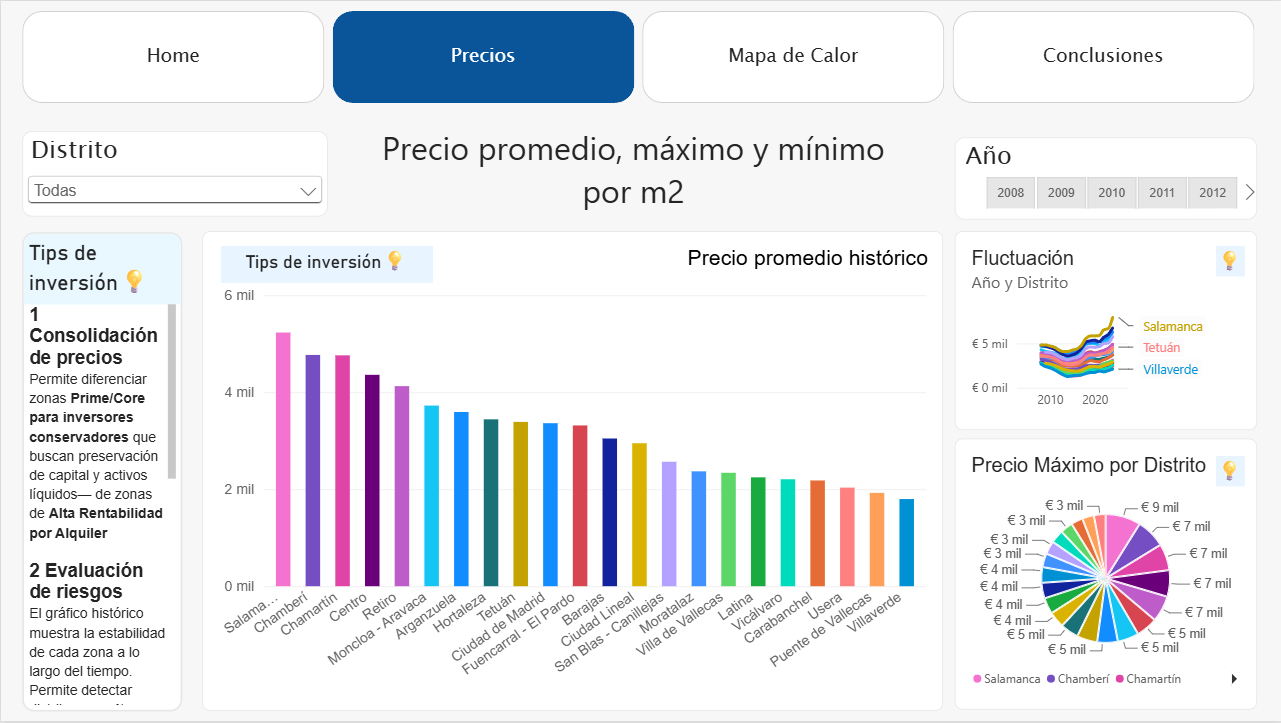

This screenshot's page, from the dashboard's own definition file:
{"tool":"powerbi","page":{"name":"Precios","canvas":[1280,720],"ordinal":1},"visuals":[{"type":"textbox","box":[21.1,125.6,1222.2,104.4],"z":0},{"type":"columnChart","title":"Precio promedio histórico ","fields":{"Category":["DimDistrito.Distrito"],"Series":["FactPrecios.Distrito"],"Y":["FactPrecios.Precio Promedio Anual"]},"box":[201.1,230,741.1,480],"z":1000},{"type":"lineChart","title":"Fluctuación","fields":{"Category":["DimFecha.Año"],"Series":["DimDistrito.Distrito"],"Y":["FactPrecios.Precio Promedio"]},"box":[953.3,230,302.2,198.9],"z":2000},{"type":"pieChart","title":"Precio Máximo por Distrito","fields":{"Category":["FactPrecios.Distrito"],"Y":["FactPrecios.Precio Máximo Distrito"]},"box":[953.3,437.8,302.2,271.1],"z":4000},{"type":"textbox","title":"Tips de inversión💡","box":[21.1,231.1,160,478.9],"z":6000},{"type":"actionButton","title":"Tips de inversión💡","box":[220,245,212.2,36.7],"z":7000},{"type":"textbox","box":[21.1,133.3,160,51.1],"z":8000},{"type":"actionButton","title":"💡","box":[1214.4,454.4,28.9,30],"z":9000},{"type":"actionButton","title":"💡","box":[1214.4,244.4,28.9,30],"z":10000},{"type":"slicer","fields":{"Values":["DimDistrito.Distrito"]},"box":[21.1,130,305.6,85.6],"z":10001},{"type":"pageNavigator","box":[21.1,10,1234.4,92.2],"z":10002},{"type":"slicer","title":"Año","fields":{"Values":["DimFecha.Año"]},"box":[953.3,136.7,302.2,82.2],"z":10003}]}

Visuals, with their boxes in screenshot pixels (x1, y1, x2, y2), scaled from the page's 1280x720 canvas onto the 1281x723 screenshot:
textbox: bbox=(21, 126, 1244, 231)
"Precio promedio histórico " columnChart: bbox=(201, 231, 943, 713)
"Fluctuación" lineChart: bbox=(954, 231, 1256, 431)
"Precio Máximo por Distrito" pieChart: bbox=(954, 440, 1256, 712)
"Tips de inversión💡" textbox: bbox=(21, 232, 181, 713)
"Tips de inversión💡" actionButton: bbox=(220, 246, 433, 283)
textbox: bbox=(21, 134, 181, 185)
"💡" actionButton: bbox=(1215, 456, 1244, 486)
"💡" actionButton: bbox=(1215, 245, 1244, 276)
slicer - DimDistrito.Distrito: bbox=(21, 131, 327, 216)
pageNavigator: bbox=(21, 10, 1256, 103)
"Año" slicer: bbox=(954, 137, 1256, 220)
